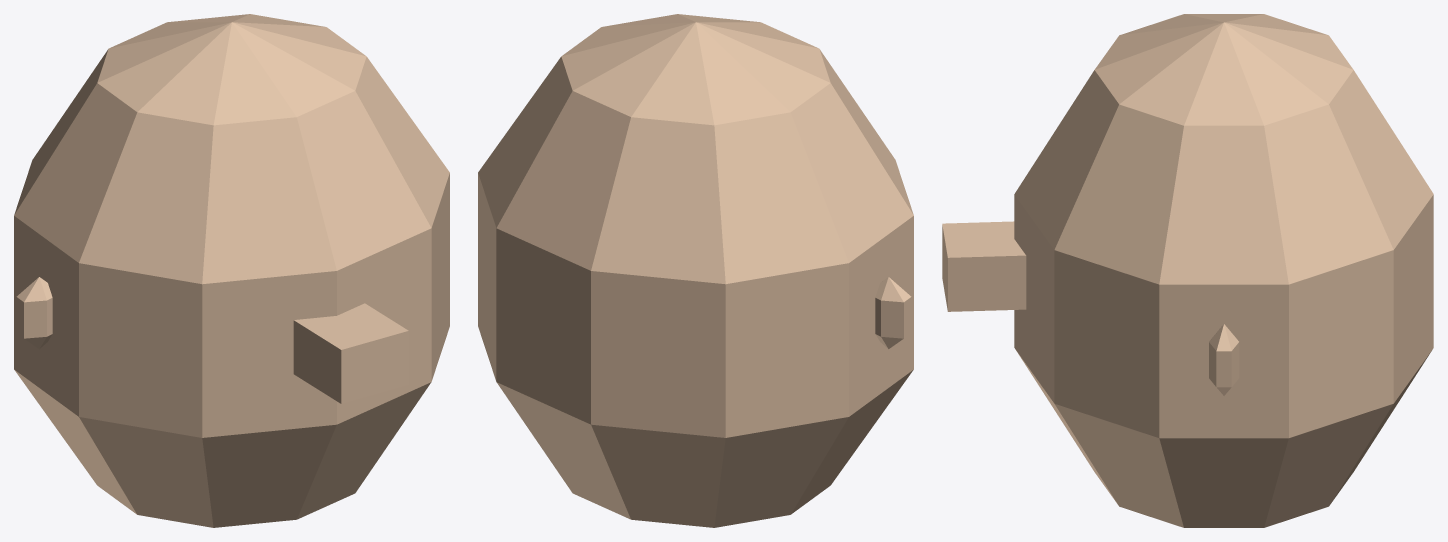
Rendered from npc_head_01.glb.
3 views of the same model, side by side, from view 1: azimuth 30°, elevation 25°; view 2: azimuth 150°, elevation 25°; view 3: azimuth 270°, elevation 25° (orthographic).
Parts seen in each view (by area): view 1: npc_head_01; view 2: npc_head_01; view 3: npc_head_01.
Part boxes in pixels (bbox=[...]): npc_head_01: bbox=[14, 14, 449, 527]; npc_head_01: bbox=[478, 14, 913, 527]; npc_head_01: bbox=[942, 14, 1433, 527].
Size of the model in its own units: 0.4505 by 0.5059 by 0.4534.
